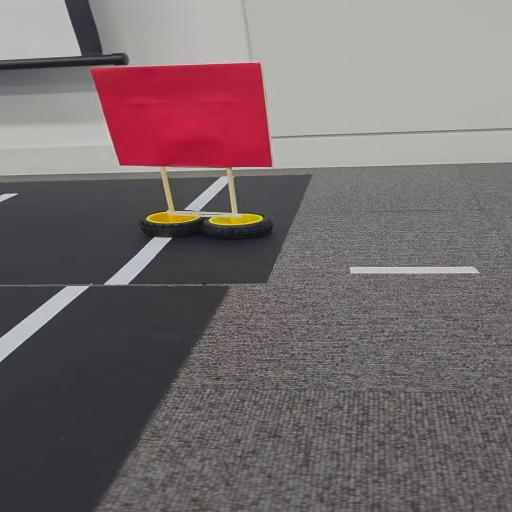Sign_A: (92, 59, 288, 243)
